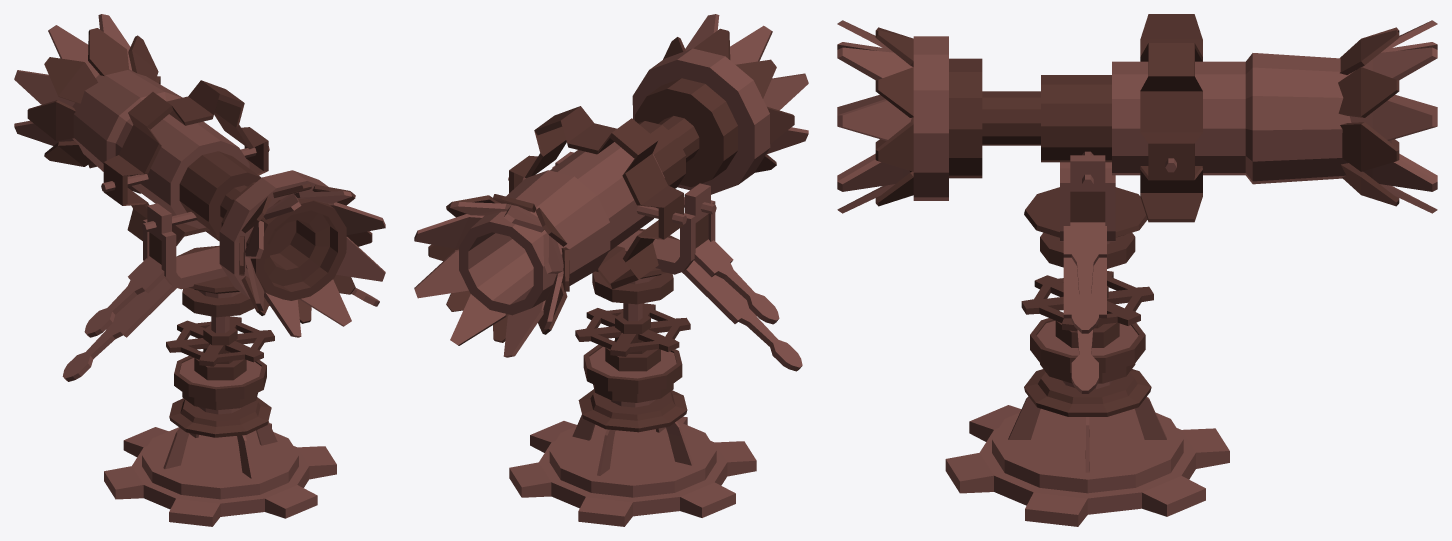
The model's file is long_2.glb.
3 renders of one model, left to right at view 1: azimuth 30°, elevation 25°; view 2: azimuth 150°, elevation 25°; view 3: azimuth 270°, elevation 25°, orthographic. The views are drawn at different scales.
Parts seen in each view (by area): view 1: _MeshInstance3D_209, _MeshInstance3D_208, _MeshInstance3D_210; view 2: _MeshInstance3D_209, _MeshInstance3D_208, _MeshInstance3D_210; view 3: _MeshInstance3D_209, _MeshInstance3D_208, _MeshInstance3D_210.
Part boxes in pixels (left/top/right/bottom): _MeshInstance3D_209: left=14, top=14, right=385, bottom=337; _MeshInstance3D_208: left=104, top=351, right=336, bottom=526; _MeshInstance3D_210: left=62, top=203, right=379, bottom=381; _MeshInstance3D_209: left=414, top=14, right=808, bottom=357; _MeshInstance3D_208: left=509, top=344, right=756, bottom=526; _MeshInstance3D_210: left=552, top=151, right=802, bottom=371; _MeshInstance3D_209: left=837, top=14, right=1437, bottom=222; _MeshInstance3D_208: left=945, top=318, right=1229, bottom=526; _MeshInstance3D_210: left=1021, top=151, right=1153, bottom=393.
Bounding box in the file's own units: 2.15 × 2.36 × 2.91.
